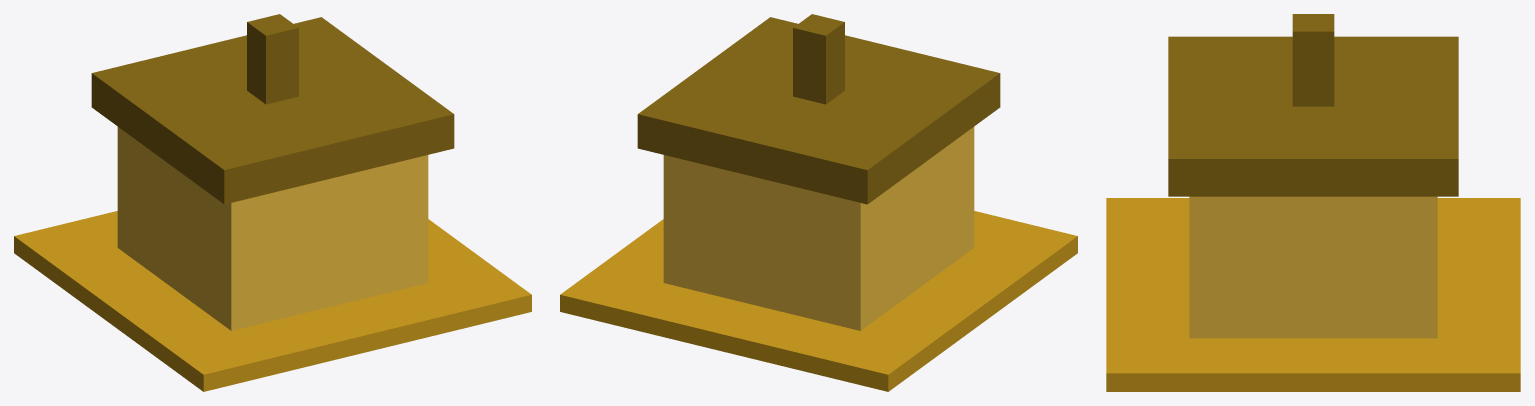
The model's file is zone-farm.glb.
The picture shows the model from 3 angles, left to right: view 1: azimuth 30°, elevation 25°; view 2: azimuth 150°, elevation 25°; view 3: azimuth 270°, elevation 25°; orthographic projection. The views are drawn at different scales.
Parts seen in each view (by area): view 1: body, roof, ground, spire; view 2: body, roof, ground, spire; view 3: ground, roof, body, spire.
Boxes of the visible parts, x1,y1,x2,y2 form: body: (117,127,428,330); roof: (91,17,454,204); ground: (14,211,531,391); spire: (247,14,298,104); body: (663,127,974,330); roof: (637,17,1000,204); ground: (560,211,1077,391); spire: (793,14,844,104); ground: (1106,198,1520,391); roof: (1168,36,1458,196); body: (1189,196,1437,338); spire: (1292,14,1334,106).
Bounding box in the file's own units: 4 × 3 × 4.
